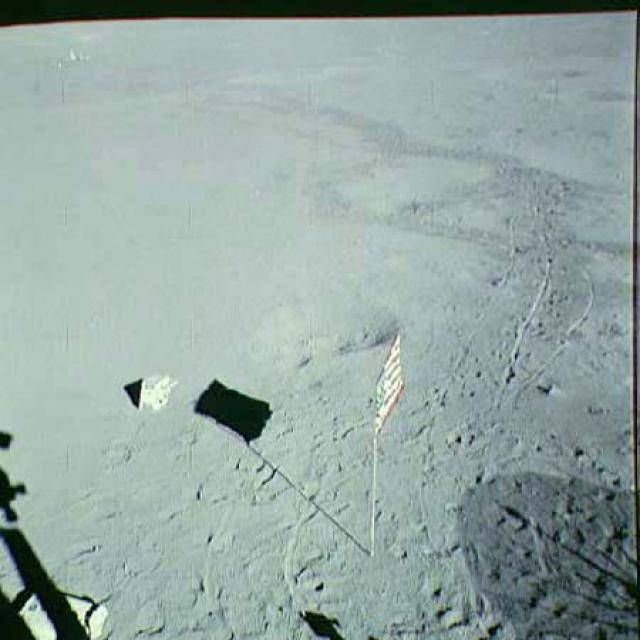crater: (216, 288, 426, 382)
rock: (111, 374, 186, 411)
